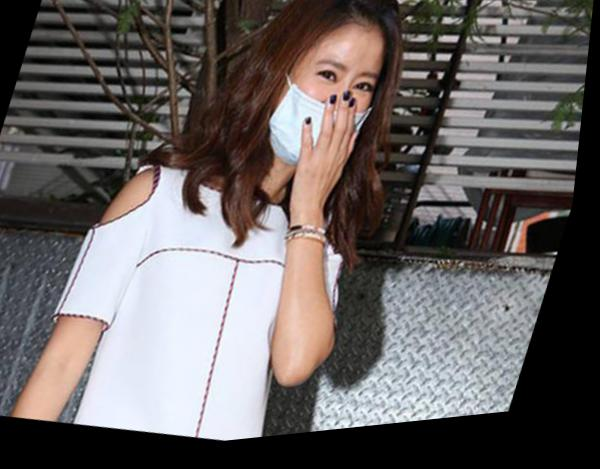WRONG: (259, 35, 397, 186)
